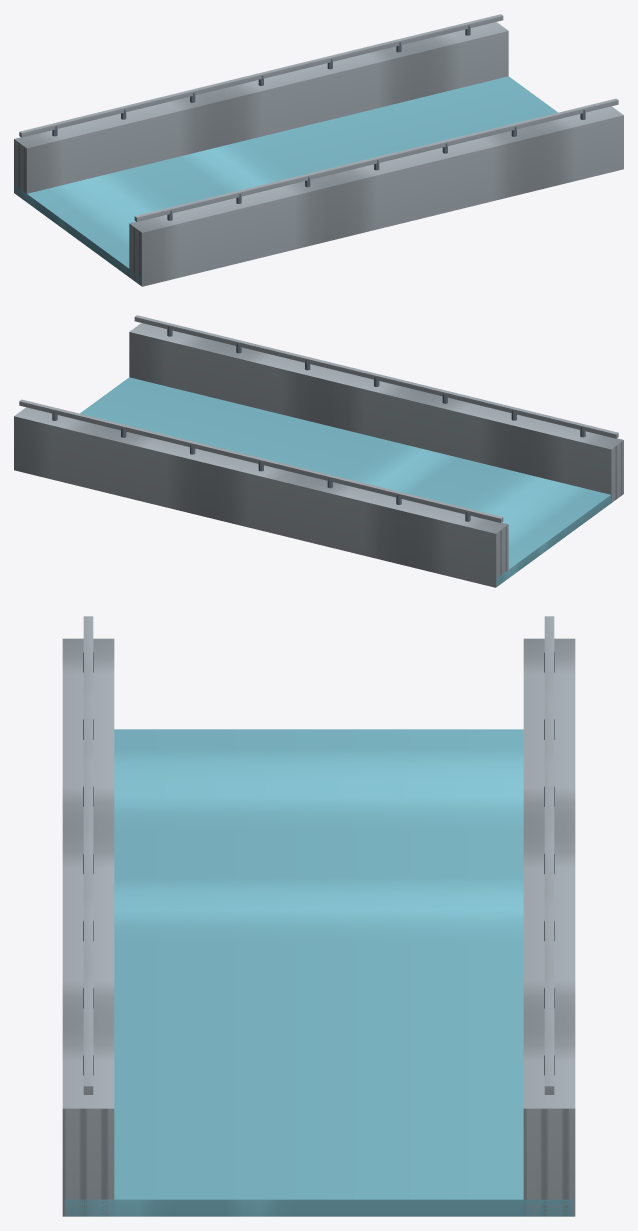
Rendered from canal_wall.glb.
The picture shows the model from 3 angles, top to bottom: view 1: azimuth 30°, elevation 25°; view 2: azimuth 150°, elevation 25°; view 3: azimuth 270°, elevation 25°; orthographic projection. The views are drawn at different scales.
Parts seen in each view (by area): view 1: canal_wall; view 2: canal_wall; view 3: canal_wall.
Part boxes in pixels (box(x1,y1,x2,y2)): canal_wall: box(14, 14, 623, 286); canal_wall: box(14, 315, 623, 587); canal_wall: box(62, 616, 575, 1216).
Size of the model in its own units: 14 by 1.81 by 6.45.
Materials: 1 (1 with a texture image).
